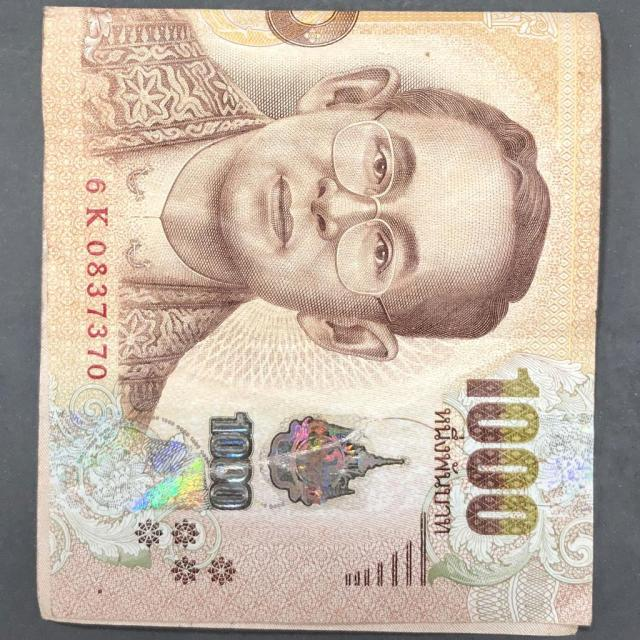THAI1000: (38, 7, 601, 635)
